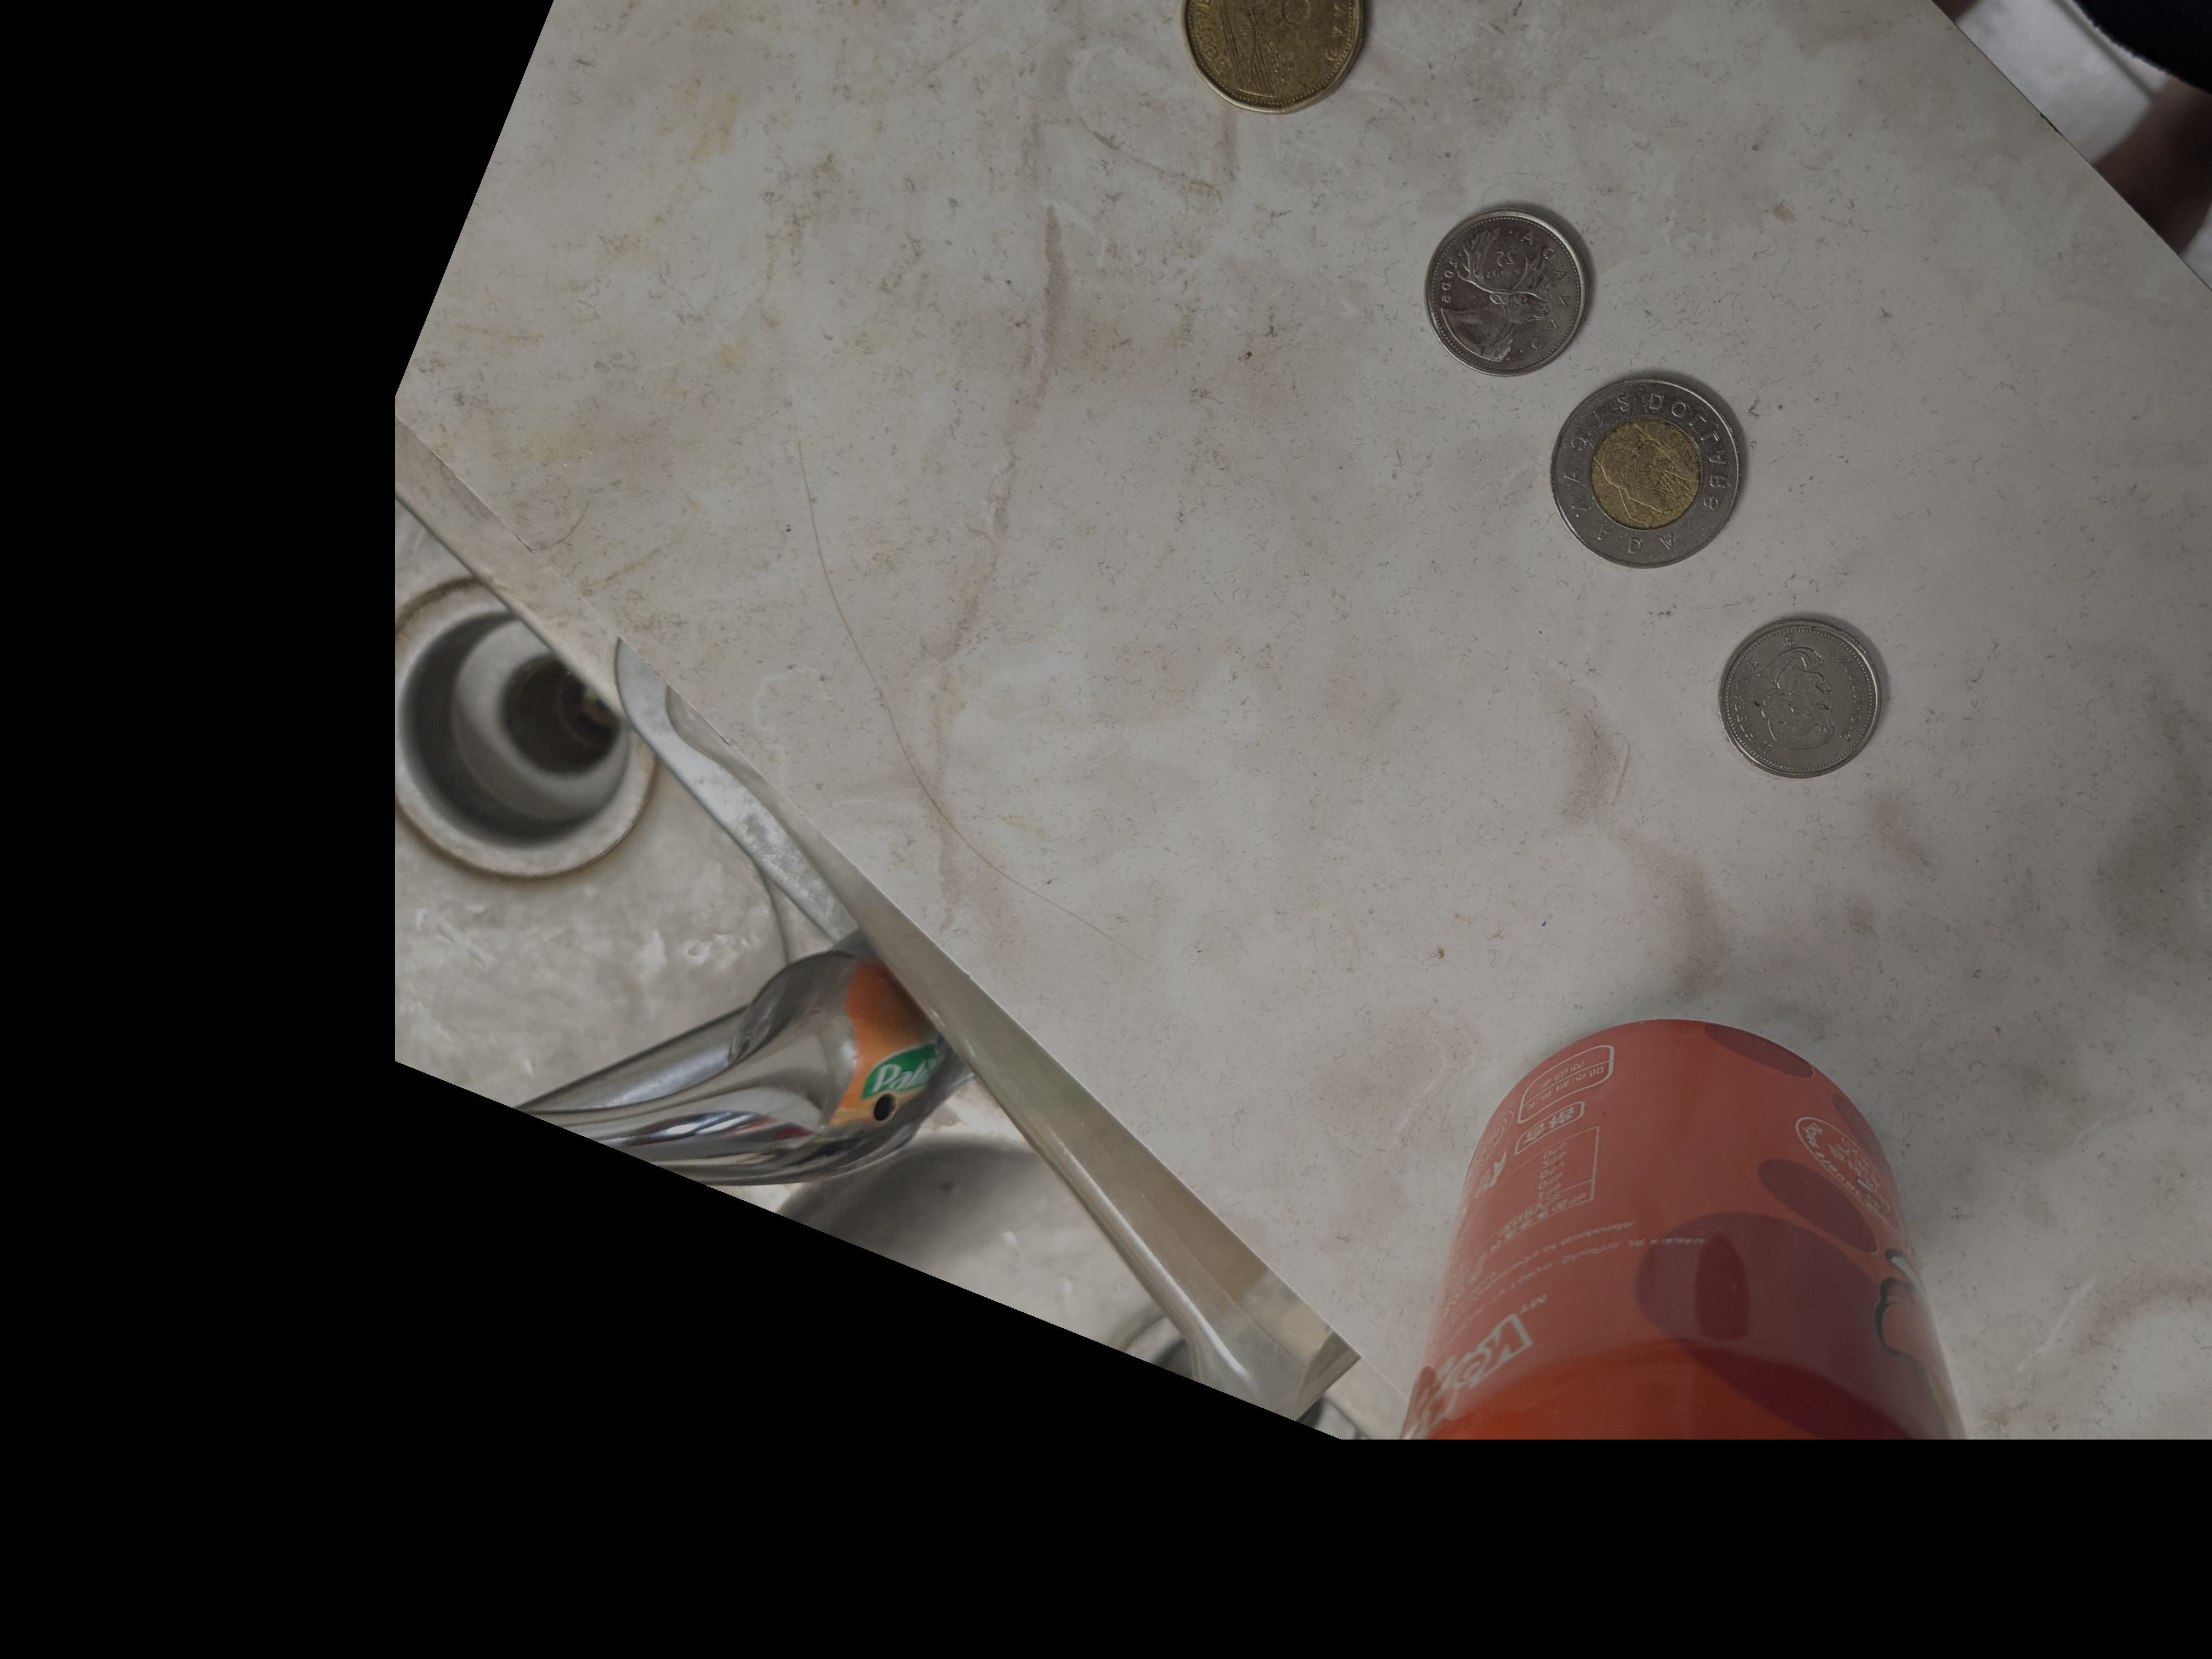loonie: (1183, 0, 1378, 115)
quarter: (1421, 200, 1595, 378), (1721, 615, 1879, 784)
toonie: (1548, 371, 1743, 568)
